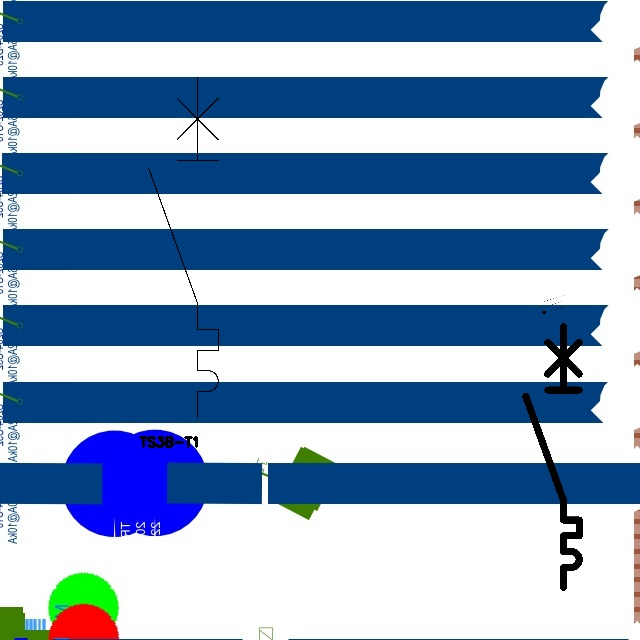interruptor_termomagnetico: (140, 69, 227, 426), (519, 319, 586, 593)
